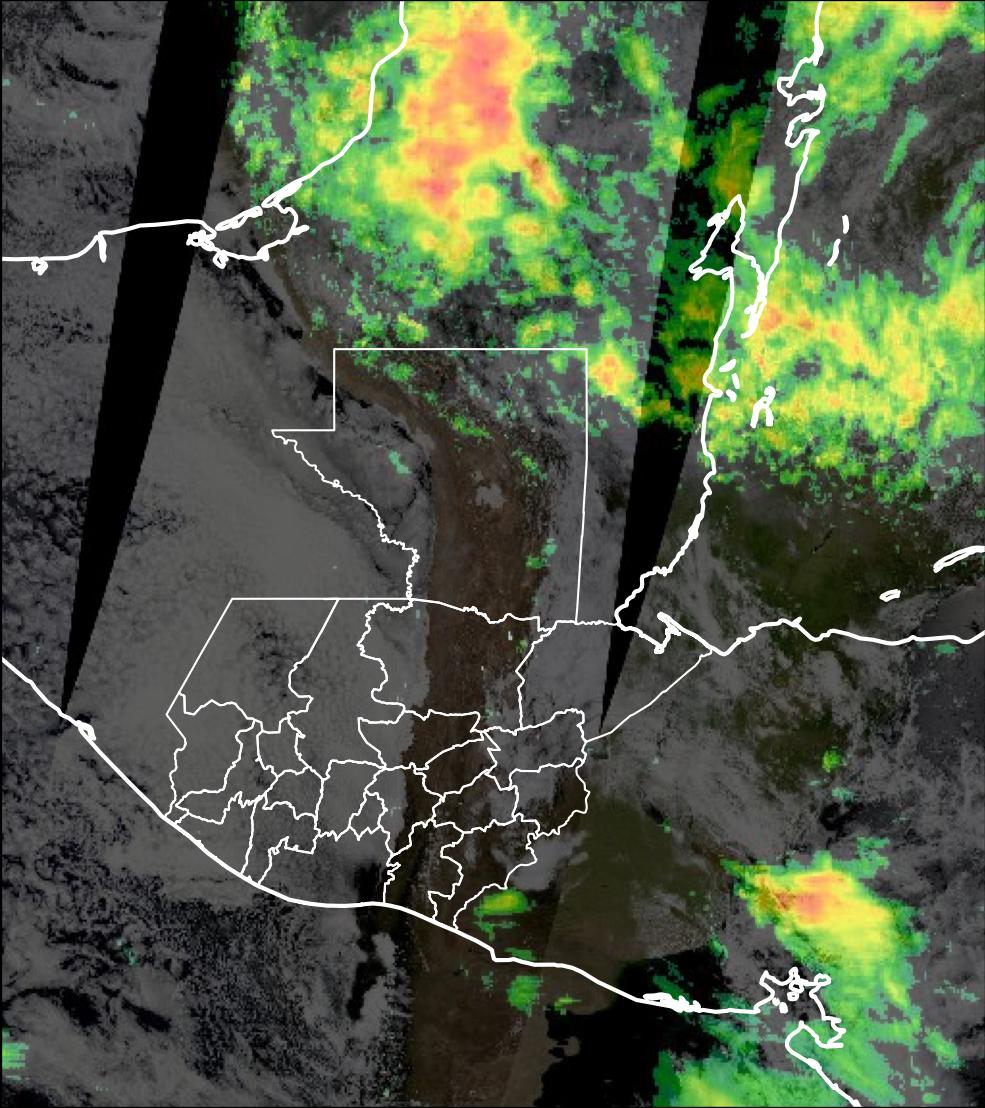precipitacion: (386, 1, 557, 240)
